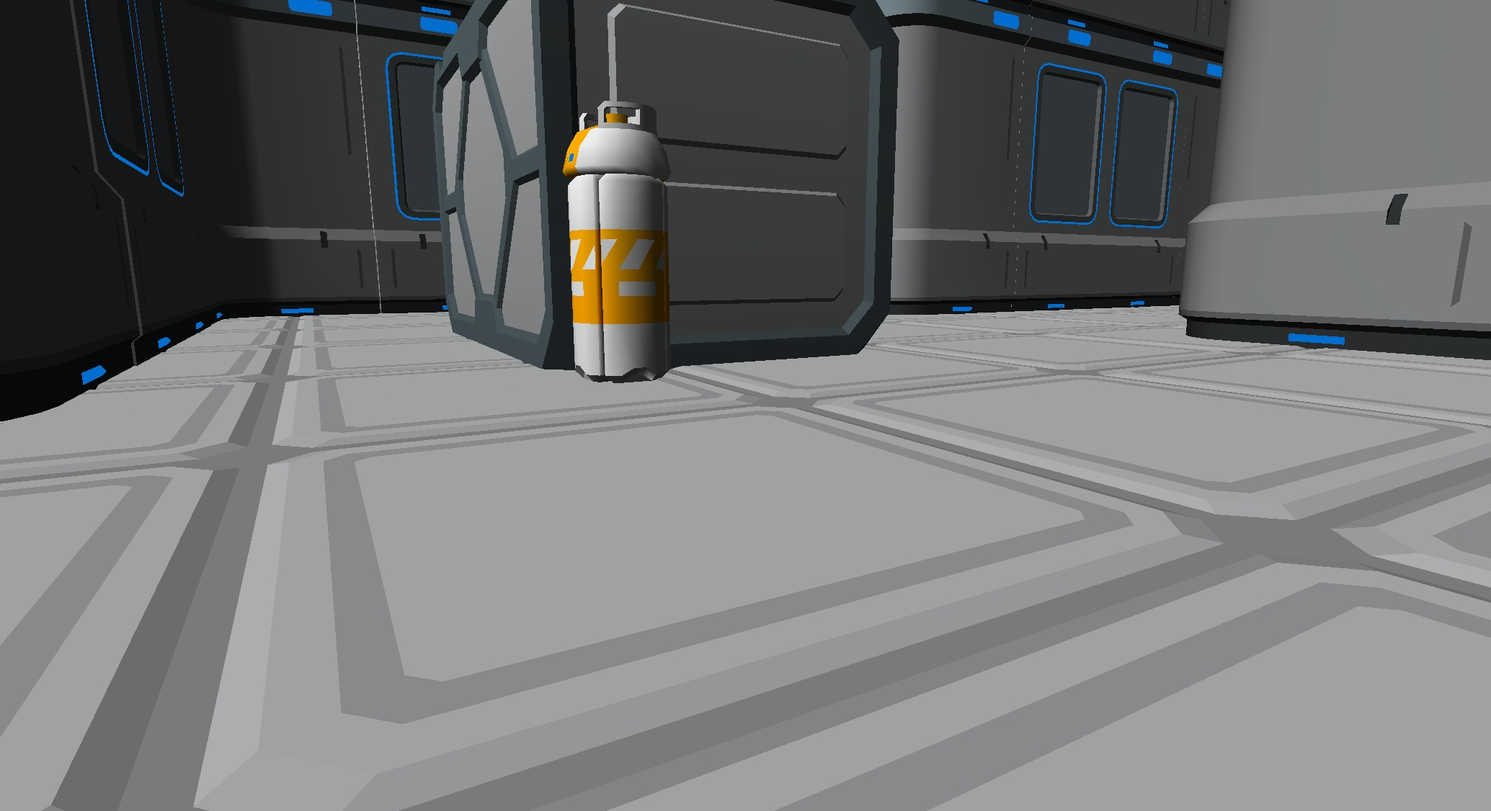yellow_barrel: (563, 102, 670, 381)
